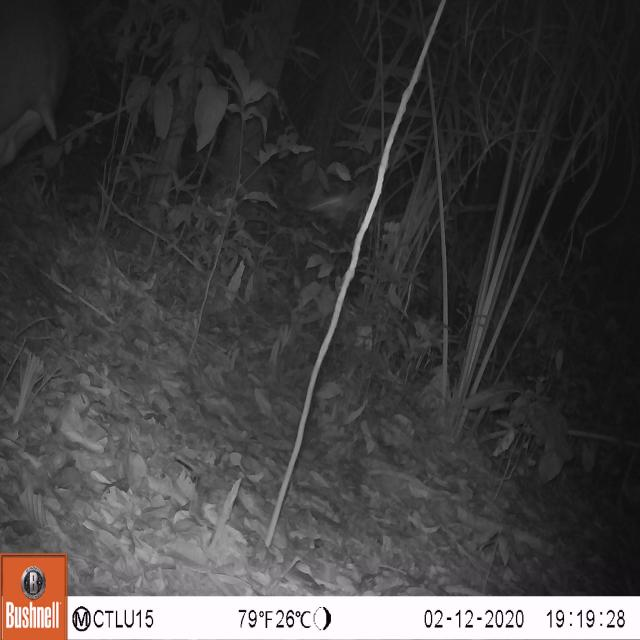Lowland Tapir: (0, 0, 68, 164)
